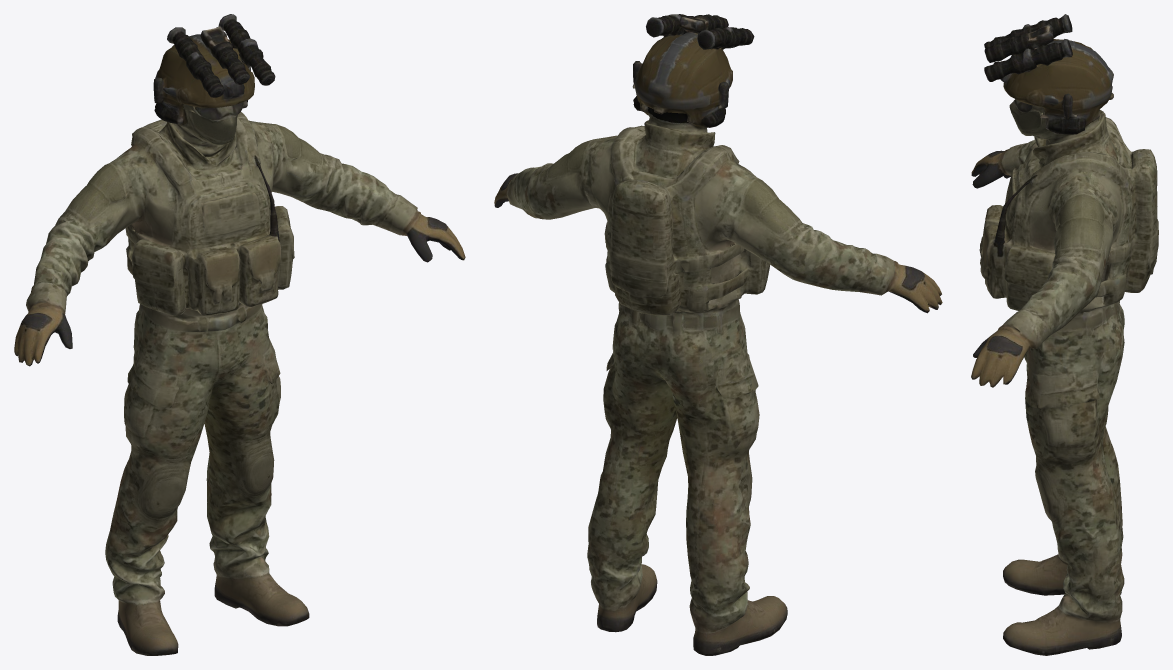
Rendered from sol_ally1.glb.
The picture shows the model from 3 angles, left to right: view 1: azimuth 30°, elevation 25°; view 2: azimuth 150°, elevation 25°; view 3: azimuth 270°, elevation 25°; orthographic projection. The views are drawn at different scales.
Bounding box in the file's own units: 0.7629 × 0.996 × 0.2872.
Materials: 1 (1 with a texture image).
